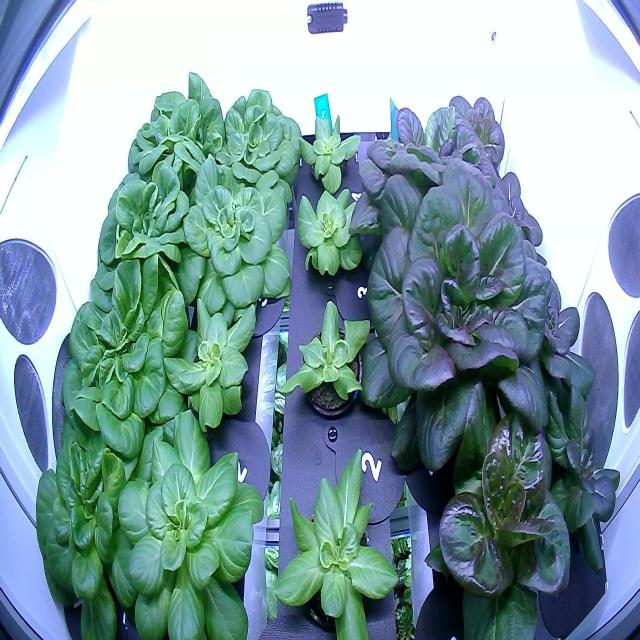Ready: (353, 153, 561, 488), (423, 390, 583, 640), (346, 89, 514, 280), (57, 247, 198, 469), (29, 408, 157, 638), (86, 147, 215, 340), (123, 62, 228, 202)
young: (104, 402, 273, 640), (268, 440, 410, 640), (174, 146, 298, 325), (534, 384, 626, 588), (156, 286, 269, 444), (496, 252, 603, 418), (272, 287, 384, 442), (207, 78, 308, 200), (285, 175, 379, 292), (431, 82, 514, 194), (470, 150, 550, 266), (290, 101, 372, 200)
